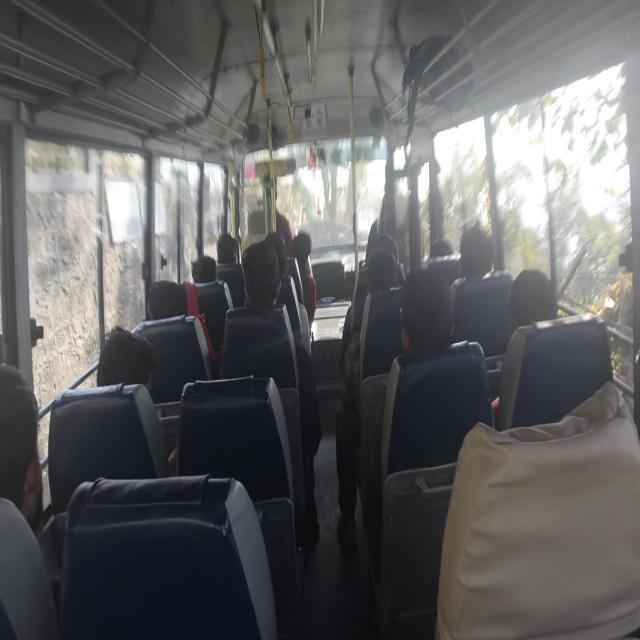person: (400, 274, 456, 352), (0, 383, 35, 506), (511, 268, 562, 333), (106, 339, 153, 402), (238, 241, 282, 298), (356, 258, 409, 300), (147, 272, 187, 321), (460, 232, 500, 280), (266, 227, 293, 275), (214, 230, 244, 269), (192, 250, 218, 290), (368, 229, 402, 258), (288, 233, 312, 263), (426, 234, 451, 260)
